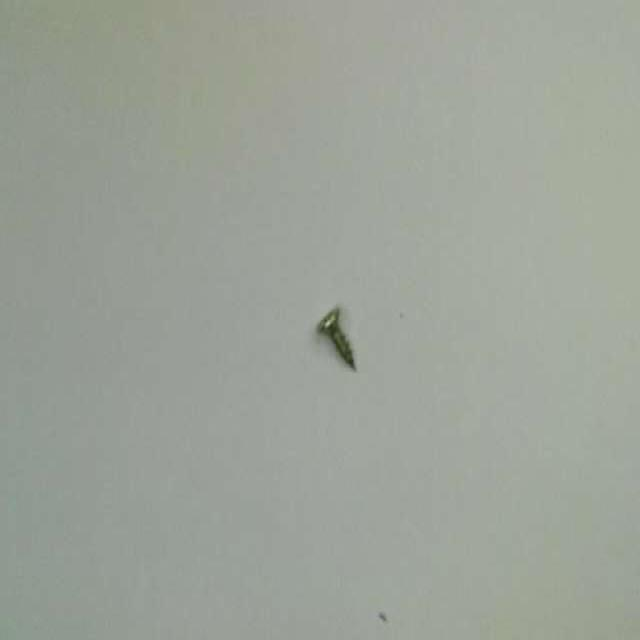Parafuso: (318, 308, 354, 368)
